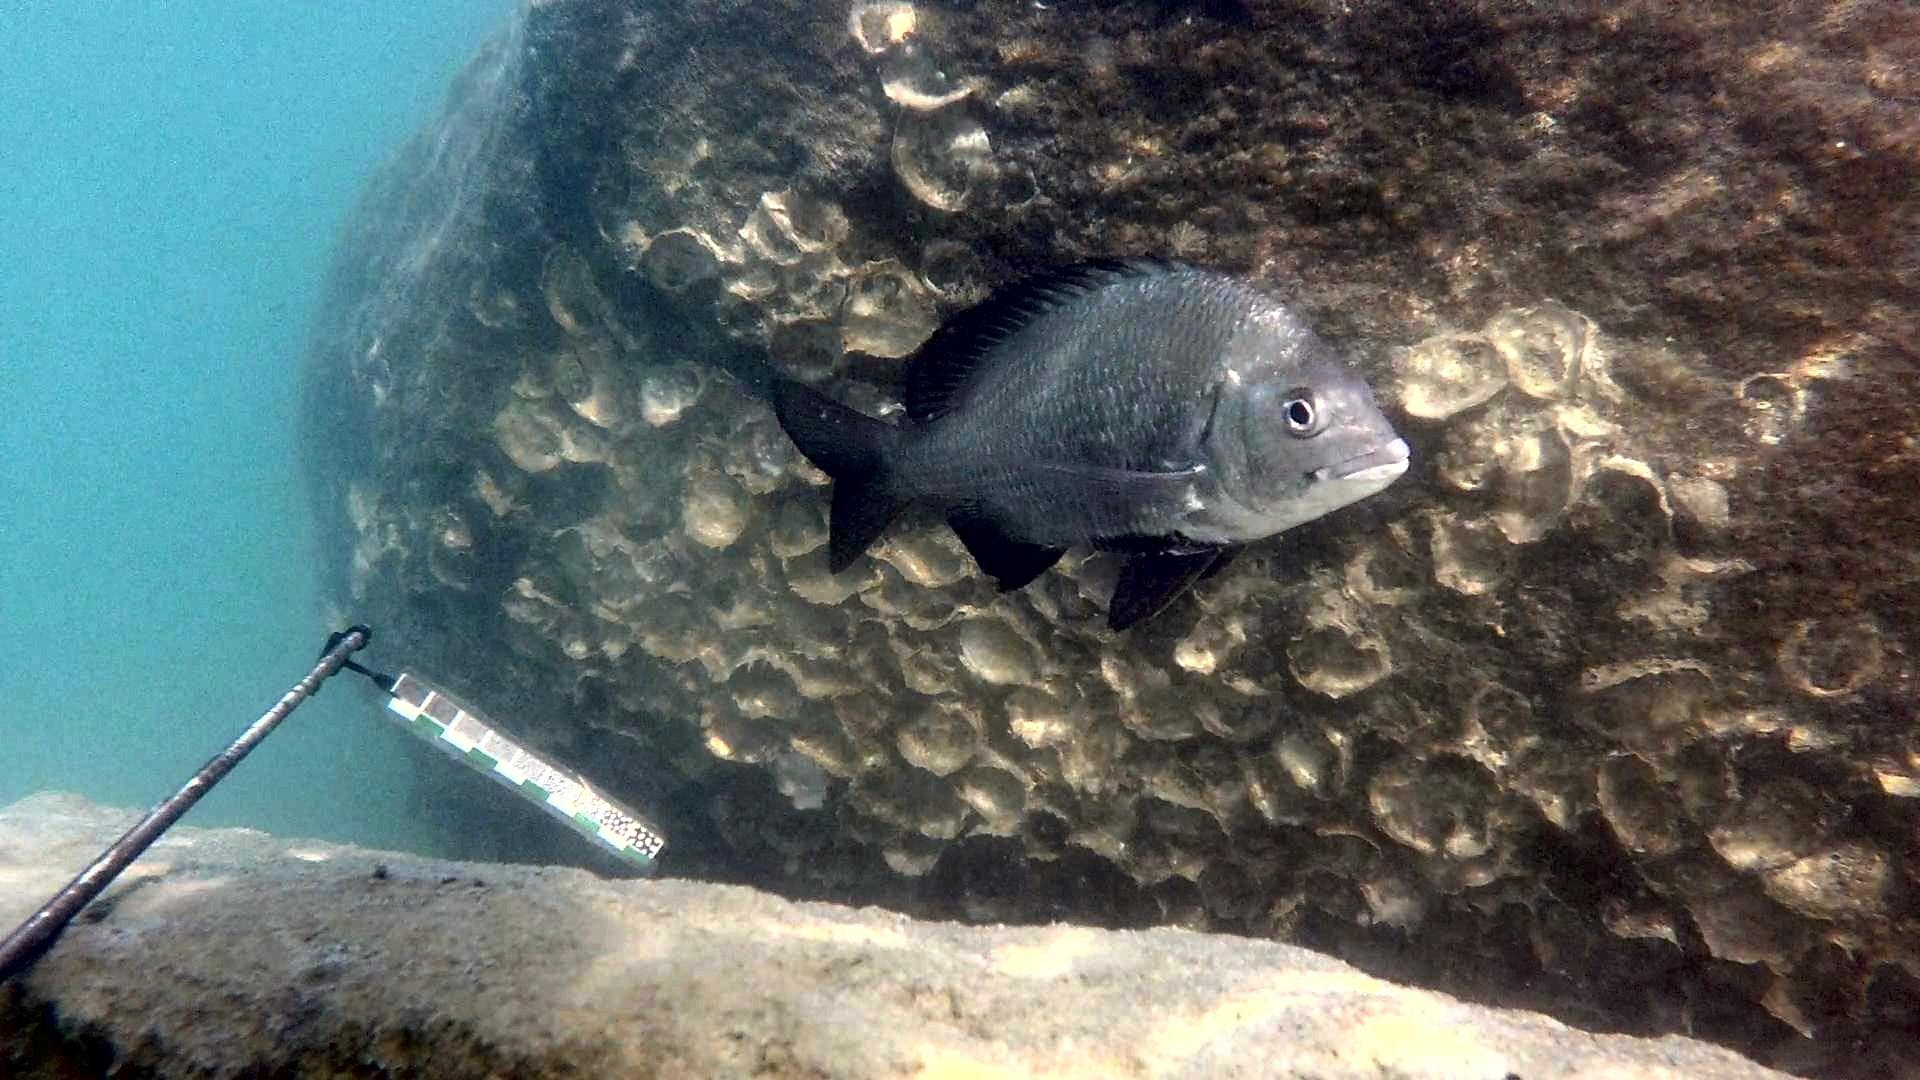acanthopagrus palmaris: (758, 243, 1418, 641)
